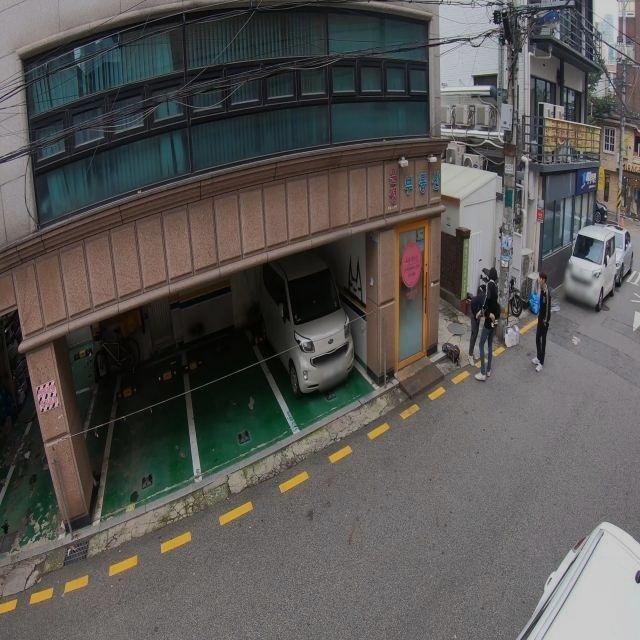fight: (469, 267, 499, 381)
non-fight: (532, 274, 552, 372)
